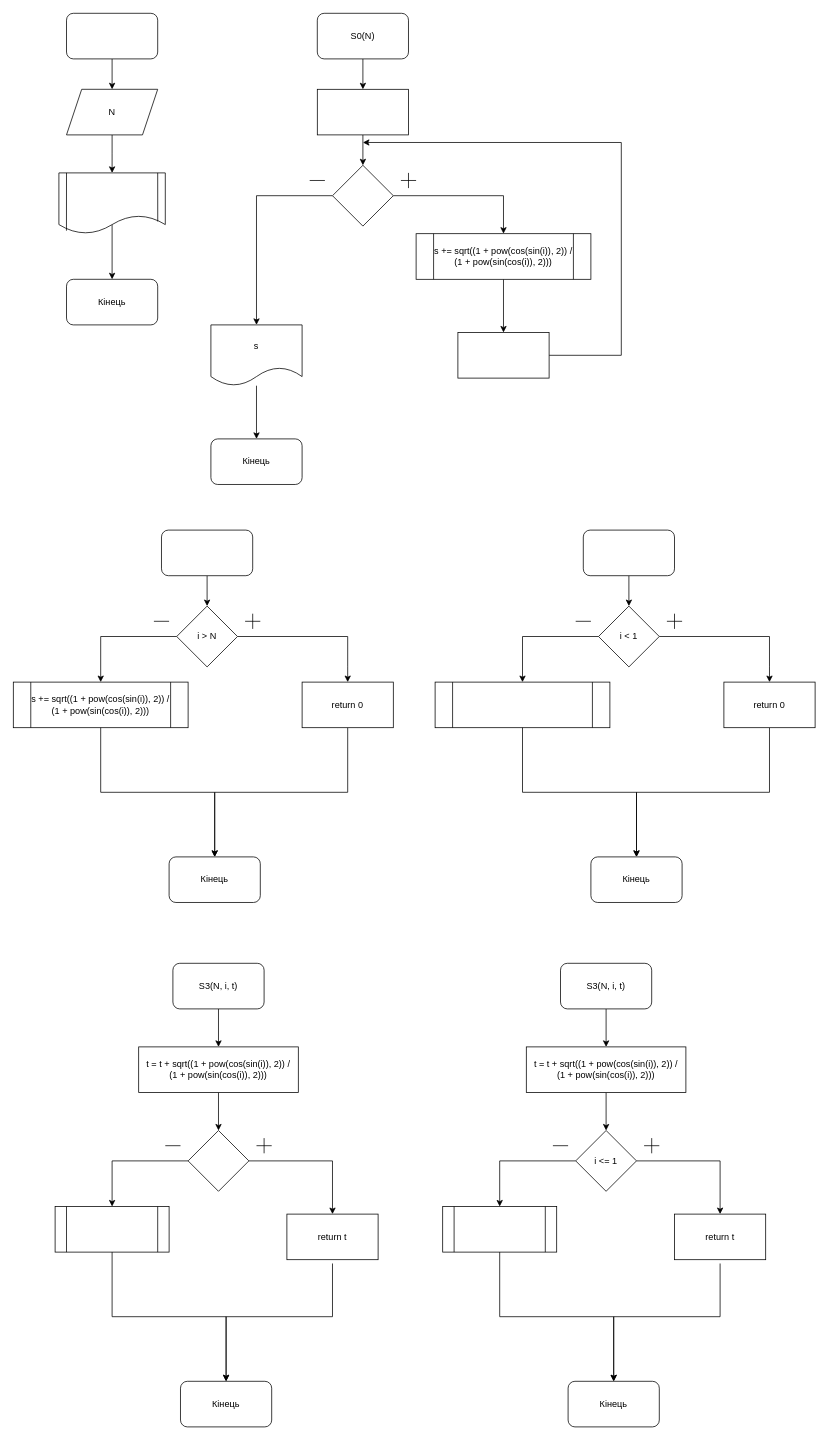
Image size: 828x1440. Some labels were removed from this diagram. Here are the shapes that lost their labels. From the top down, the centre of each, then its label:
At pixel 112 36: "Початок".
At pixel 362 112: "s = 0 i = 1".
At pixel 111 203: "S0, S1, S2, S3, S4".
At pixel 362 195: "i <= N".
At pixel 503 355: "i++".
At pixel 207 552: "S1(N, i)".
At pixel 628 552: "S2(N, i)".
At pixel 522 704: "sqrt((1 + pow(cos(sin(i)), 2)) / (1 + pow(sin(cos(i)), 2))) + S1(N, i + 1)".
At pixel 218 1160: "i >= N".
At pixel 111 1229: "return S3(N, i + 1, t)".
At pixel 499 1229: "return S4(N, i - 1, t)".
